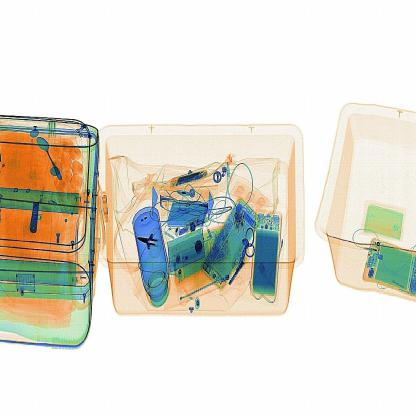gun: (133, 221, 171, 265)
